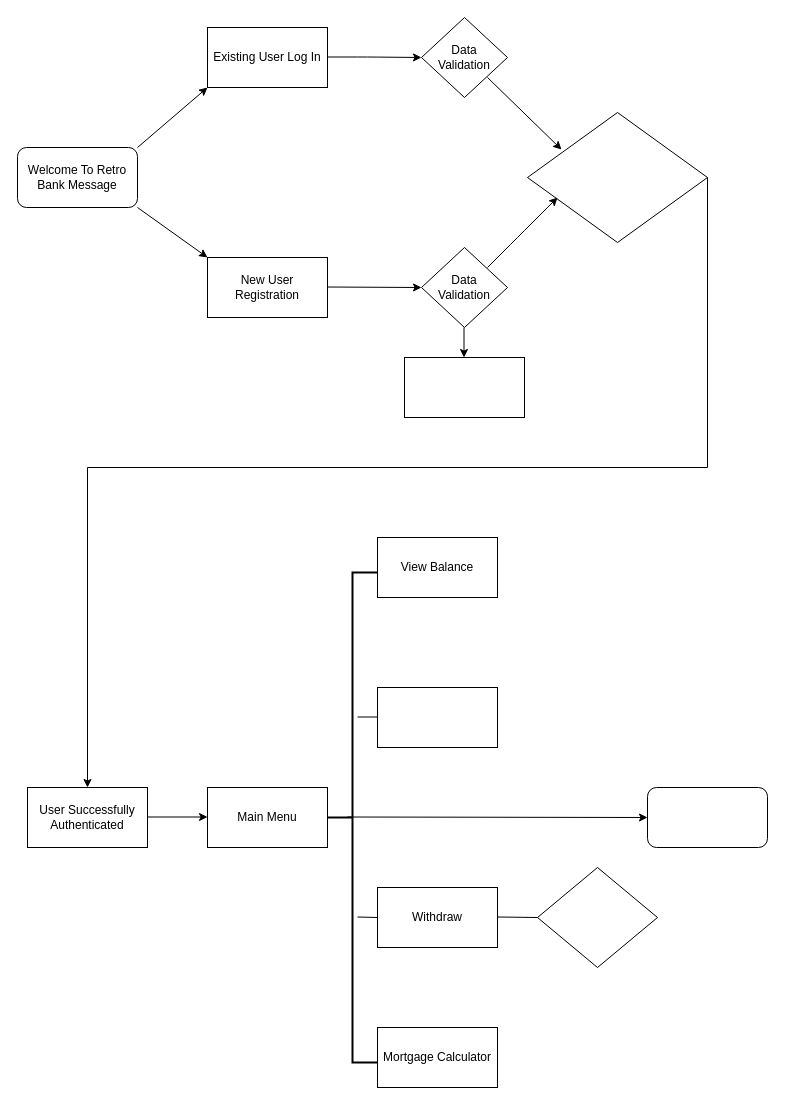
The diagram is 785 pixels wide and 1105 high, and some of its shapes have lost their labels. Each missing label, with the box of its shape:
Check Sufficient Balance: (536, 866, 658, 968)
Deposit: (376, 686, 498, 748)
Log In User Details Checked Against Google Sheet: (526, 112, 708, 242)
Log Out: (646, 786, 768, 848)
New User Details Registers To Google Sheet: (404, 356, 524, 418)
